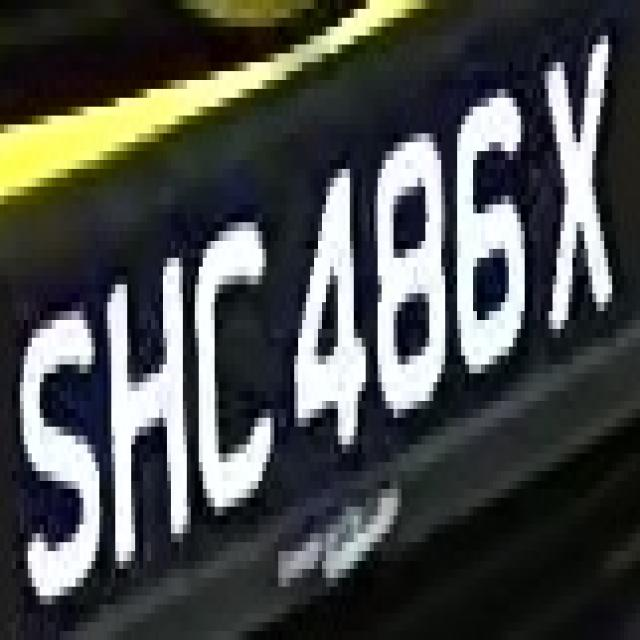4: (290, 151, 382, 489)
6: (445, 71, 537, 382)
8: (366, 80, 445, 418)
C: (195, 178, 286, 560)
H: (107, 240, 195, 596)
S: (16, 294, 103, 622)
X: (533, 18, 628, 373)
